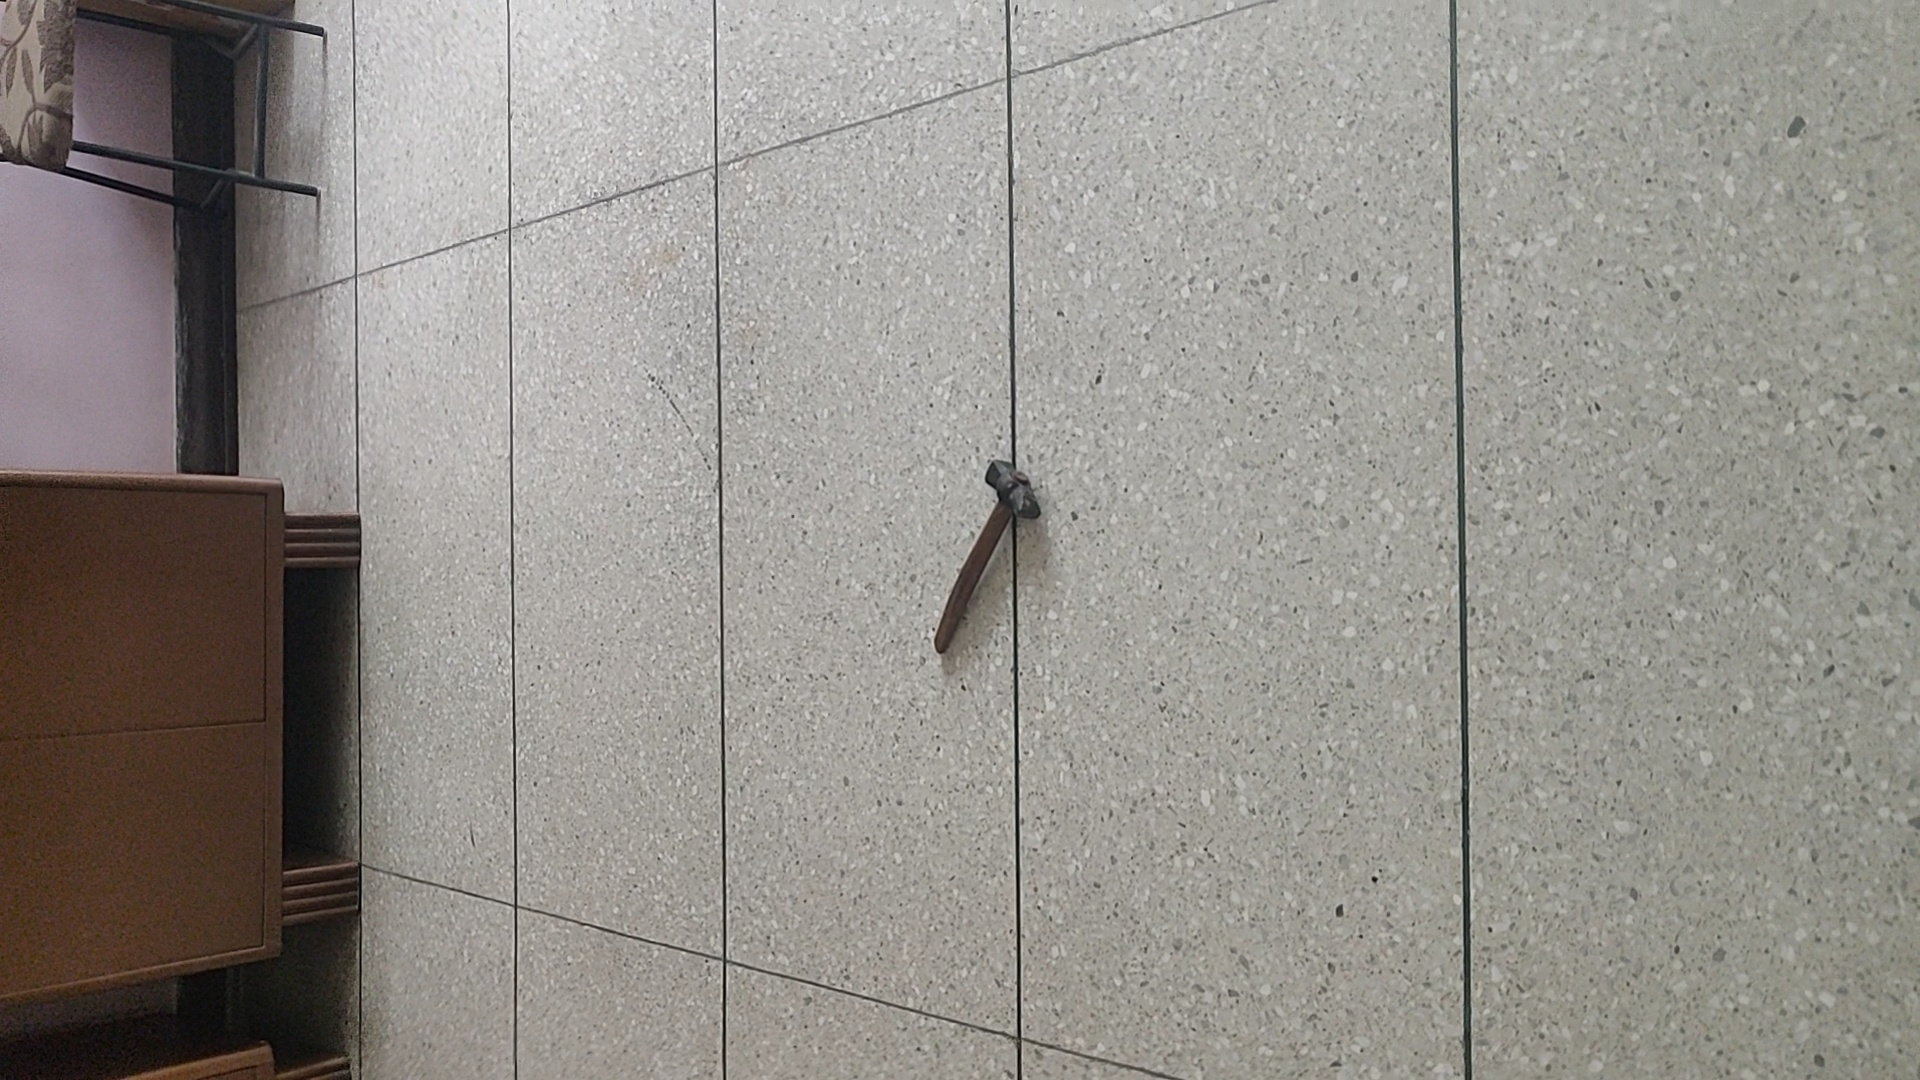hammer: (928, 455, 1047, 657)
